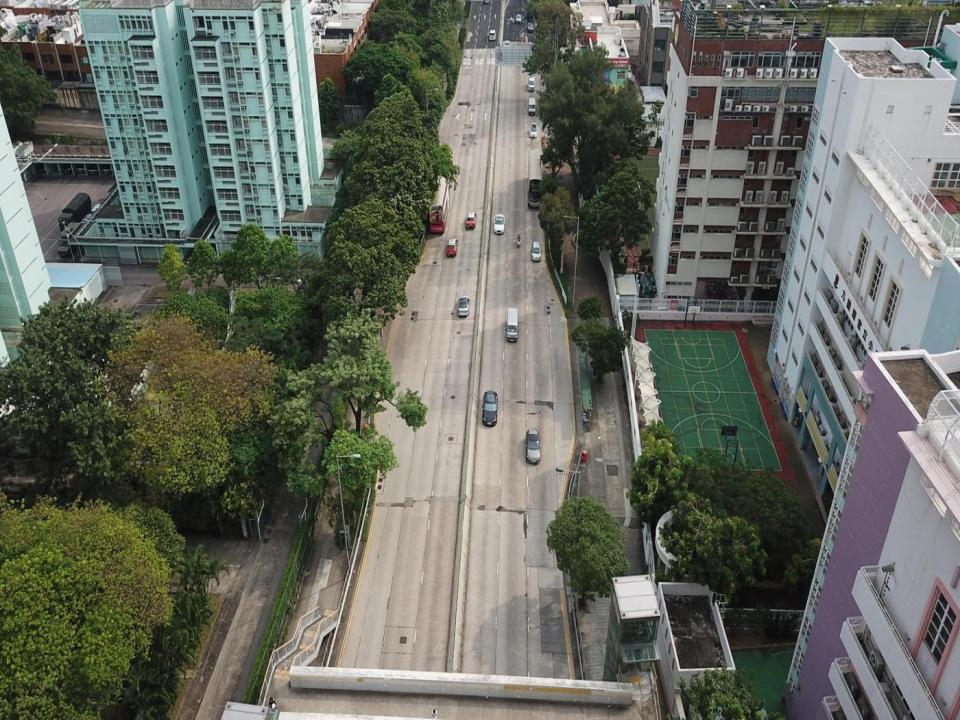bus: (428, 174, 450, 235), (527, 148, 543, 209)
car: (526, 425, 542, 465), (482, 390, 499, 426), (493, 212, 506, 233), (530, 240, 542, 262), (457, 295, 469, 315), (447, 238, 457, 258), (466, 211, 476, 228), (529, 123, 537, 138), (527, 18, 534, 34), (488, 28, 497, 40), (504, 38, 510, 50), (516, 13, 522, 24)
van: (507, 307, 519, 341), (528, 96, 536, 118), (528, 73, 533, 90)
